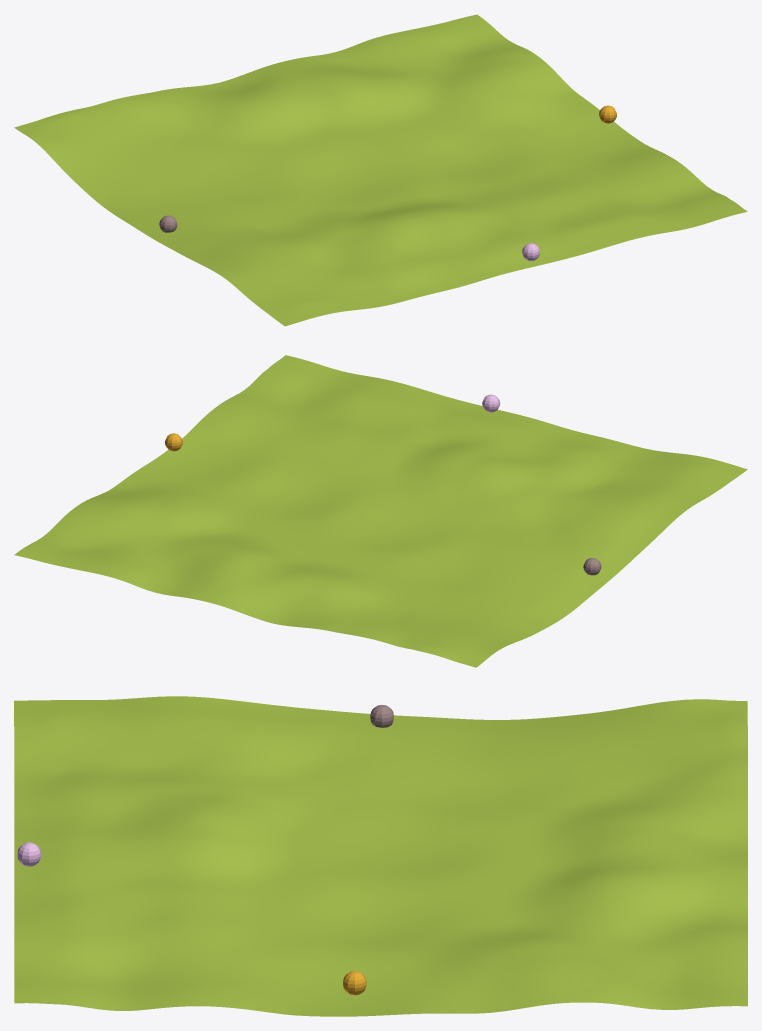
Rendered from marqueurs_chemin_raccourci1.fbx.
3 renders of one model, top to bottom at view 1: azimuth 30°, elevation 25°; view 2: azimuth 150°, elevation 25°; view 3: azimuth 270°, elevation 25°, orthographic. The views are drawn at different scales.
Parts seen in each view (by area): view 1: chemin_raccourci1; view 2: chemin_raccourci1; view 3: chemin_raccourci1.
Boxes of the visible parts, x1,y1,x2,y2 form: chemin_raccourci1: [14, 14, 747, 326]; chemin_raccourci1: [14, 355, 747, 667]; chemin_raccourci1: [14, 696, 747, 1016].
Bounding box in the file's own units: 710 × 47.19 × 721.
